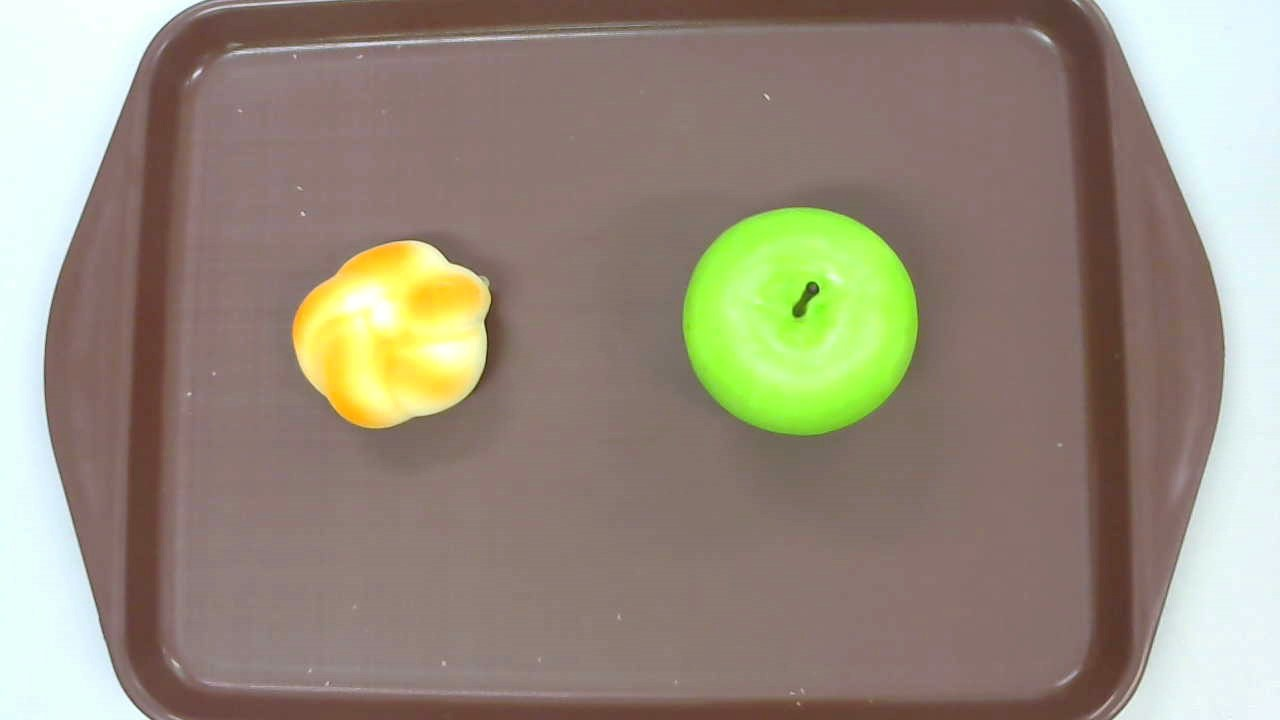green apple: (682, 205, 919, 438)
twist bread: (291, 239, 491, 428)
